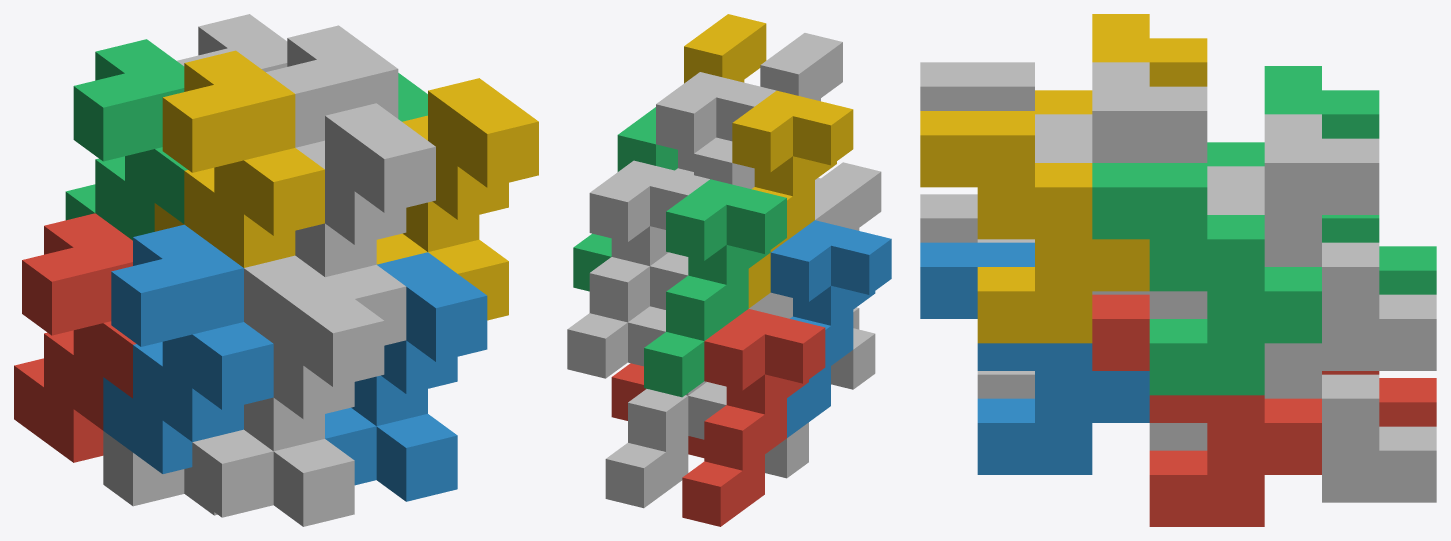
File: tiling.obj
3 renders of one model, left to right at view 1: azimuth 30°, elevation 25°; view 2: azimuth 150°, elevation 25°; view 3: azimuth 270°, elevation 25°, orthographic. The views are drawn at different scales.
Visible parts, largest first — view 1: copy_1_domain_2, copy_2_domain_2, copy_1_domain_4, copy_2_domain_4, copy_2_domain_6, copy_1_domain_1, copy_2_domain_8, copy_1_domain_3, copy_1_domain_8, copy_2_domain_1, copy_1_domain_7, copy_2_domain_7; view 2: copy_1_domain_1, copy_1_domain_3, copy_1_domain_7, copy_1_domain_2, copy_1_domain_4, copy_1_domain_5, copy_1_domain_8, copy_2_domain_2, copy_2_domain_4, copy_2_domain_8, copy_2_domain_7, copy_2_domain_3 (+2 smaller); view 3: copy_2_domain_7, copy_2_domain_8, copy_1_domain_7, copy_2_domain_5, copy_2_domain_6, copy_1_domain_5, copy_1_domain_8, copy_1_domain_3, copy_2_domain_4, copy_1_domain_4, copy_2_domain_2, copy_1_domain_1 (+2 smaller).
Part boxes in pixels (box(x1,y1,x2,y2)): copy_1_domain_2: box(103, 224, 273, 473); copy_2_domain_2: box(192, 277, 384, 526); copy_1_domain_4: box(154, 50, 324, 267); copy_2_domain_4: box(244, 103, 435, 345); copy_2_domain_6: box(325, 252, 487, 501); copy_1_domain_1: box(14, 213, 136, 462); copy_2_domain_8: box(376, 78, 538, 320); copy_1_domain_3: box(65, 39, 187, 240); copy_1_domain_8: box(266, 25, 398, 147); copy_2_domain_1: box(103, 431, 217, 515); copy_1_domain_7: box(177, 14, 287, 71); copy_2_domain_7: box(398, 73, 427, 121); copy_1_domain_1: box(682, 309, 825, 526); copy_1_domain_3: box(644, 179, 786, 397); copy_1_domain_7: box(567, 160, 709, 378); copy_1_domain_2: box(770, 220, 891, 437); copy_1_domain_4: box(732, 90, 853, 308); copy_1_domain_5: box(605, 306, 706, 508); copy_1_domain_8: box(656, 72, 776, 174); copy_2_domain_2: box(815, 162, 881, 389); copy_2_domain_4: box(760, 33, 842, 225); copy_2_domain_8: box(684, 14, 766, 83); copy_2_domain_7: box(573, 107, 677, 291); copy_2_domain_3: box(650, 137, 770, 313); copy_2_domain_7: box(1092, 163, 1321, 395); copy_2_domain_8: box(920, 111, 1149, 343); copy_1_domain_7: box(1207, 114, 1436, 370); copy_2_domain_5: box(1092, 294, 1321, 526); copy_2_domain_6: box(920, 242, 1149, 474); copy_1_domain_5: box(1264, 343, 1436, 502); copy_1_domain_8: box(1035, 62, 1207, 318); copy_1_domain_3: box(1207, 66, 1436, 294); copy_2_domain_4: box(920, 62, 1092, 242); copy_1_domain_4: box(1035, 14, 1207, 114); copy_2_domain_2: box(920, 194, 1034, 398); copy_1_domain_1: box(1322, 371, 1436, 426).
Bounding box in the file's own units: 6 × 8 × 9.
